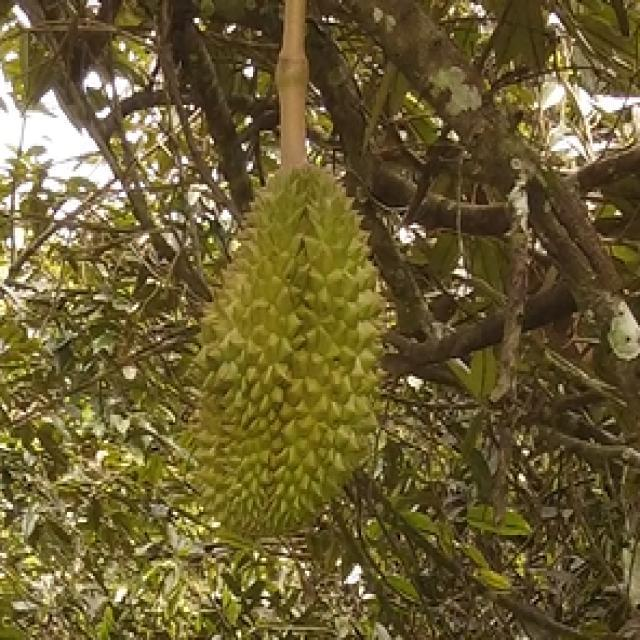immature: (185, 156, 381, 536)
